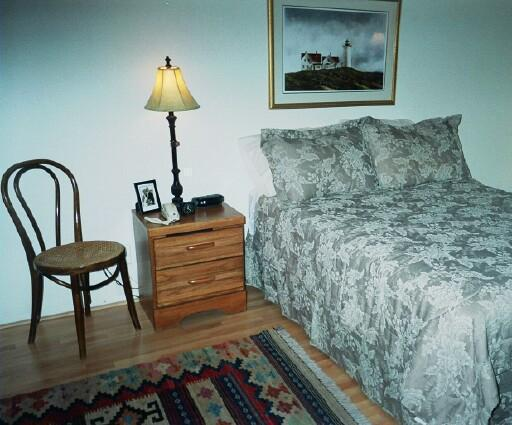Cama: (254, 124, 508, 418)
